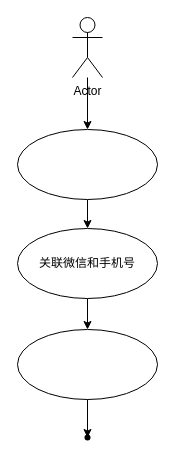
Image size: 175x465. Some labels were removed from this diagram. Each missing label, with the centre of its shape:
充值钱包: (x=87, y=364)
创建账户（钱包）: (x=87, y=164)
